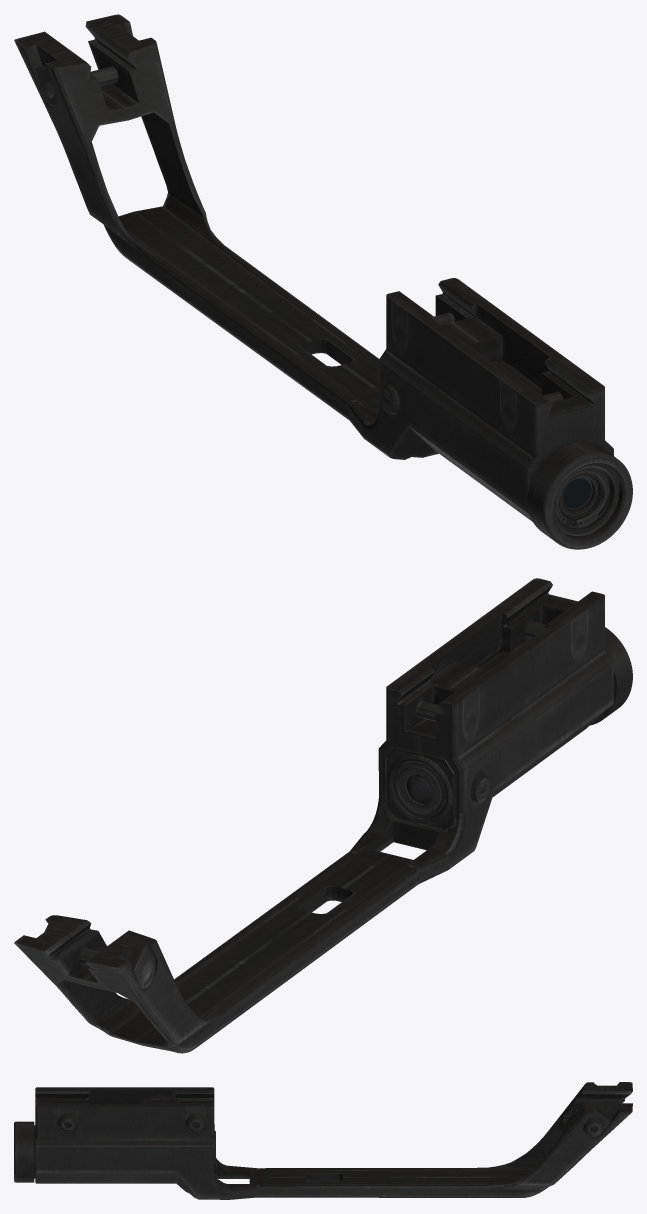
The picture shows the model from 3 angles, top to bottom: view 1: azimuth 30°, elevation 25°; view 2: azimuth 150°, elevation 25°; view 3: azimuth 270°, elevation 25°; orthographic projection. The views are drawn at different scales.
Visible parts, largest first — view 1: TW_622b4f54dc8dcc0ba8742f85_PZ_Import; view 2: TW_622b4f54dc8dcc0ba8742f85_PZ_Import; view 3: TW_622b4f54dc8dcc0ba8742f85_PZ_Import.
Boxes of the visible parts, box(x1,y1,x2,y2) form: TW_622b4f54dc8dcc0ba8742f85_PZ_Import: box(14, 14, 632, 549); TW_622b4f54dc8dcc0ba8742f85_PZ_Import: box(14, 578, 632, 1053); TW_622b4f54dc8dcc0ba8742f85_PZ_Import: box(14, 1082, 632, 1199).
Size of the model in its own units: 0.0234 by 0.1966 by 0.032.
1 material, 1 textured.
